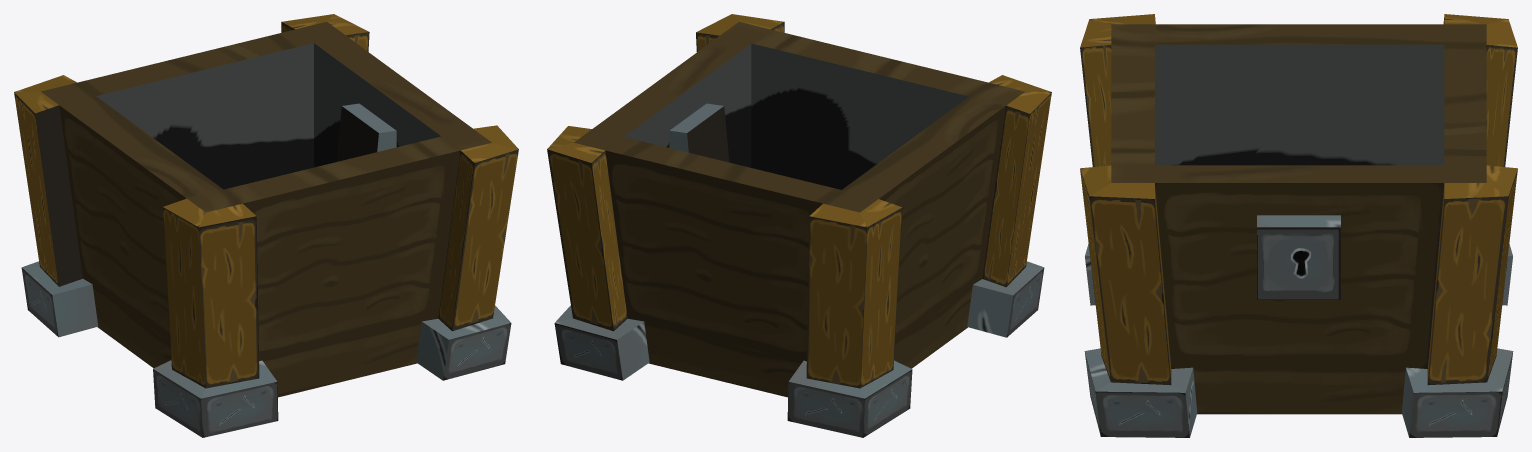
File: chest.fbx
3 renders of one model, left to right at view 1: azimuth 30°, elevation 25°; view 2: azimuth 150°, elevation 25°; view 3: azimuth 270°, elevation 25°, orthographic. The views are drawn at different scales.
Parts seen in each view (by area): view 1: Cube, Cube.001; view 2: Cube, Cube.001; view 3: Cube, Cube.001.
Part boxes in pixels (x1,y1,x2,y2): Cube: (14, 14, 518, 437); Cube.001: (336, 103, 396, 161); Cube: (547, 14, 1051, 437); Cube.001: (669, 103, 729, 162); Cube: (1080, 14, 1517, 437); Cube.001: (1257, 215, 1340, 299).
Size of the model in its own units: 327 by 206 by 327.
2 materials, 2 textured.
